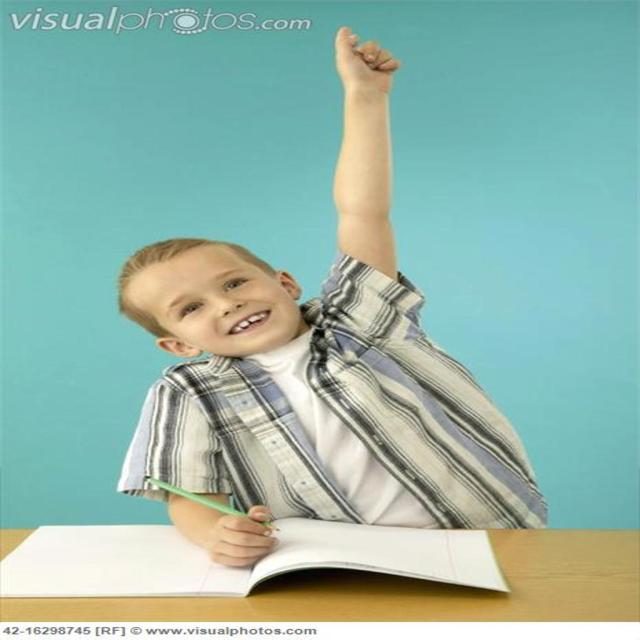Face: (108, 240, 317, 354)
